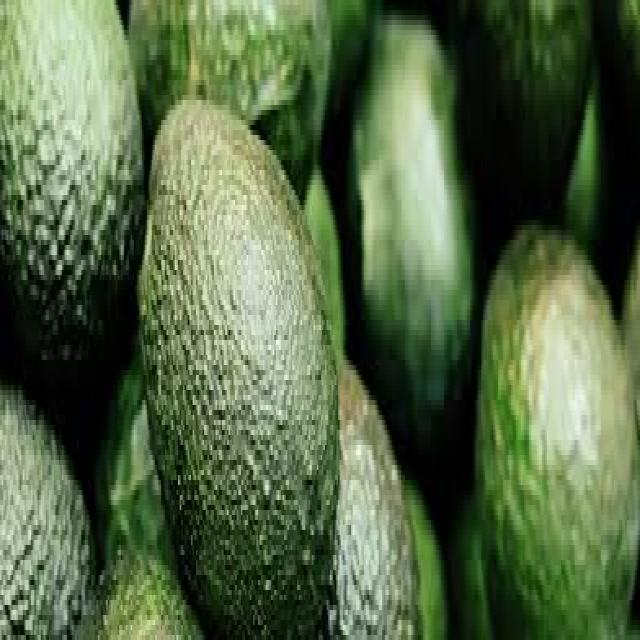Avocado: (127, 90, 353, 640), (477, 193, 640, 640), (352, 17, 482, 435), (0, 373, 105, 640), (131, 0, 333, 114)
